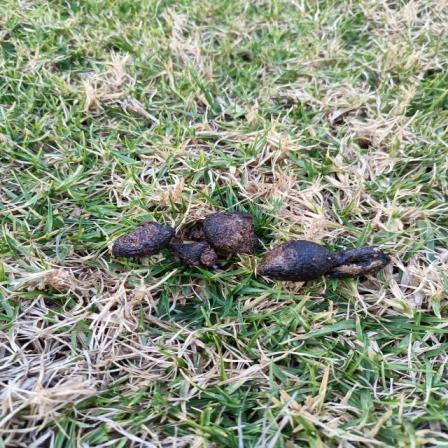dog-poop: (113, 206, 382, 287)
